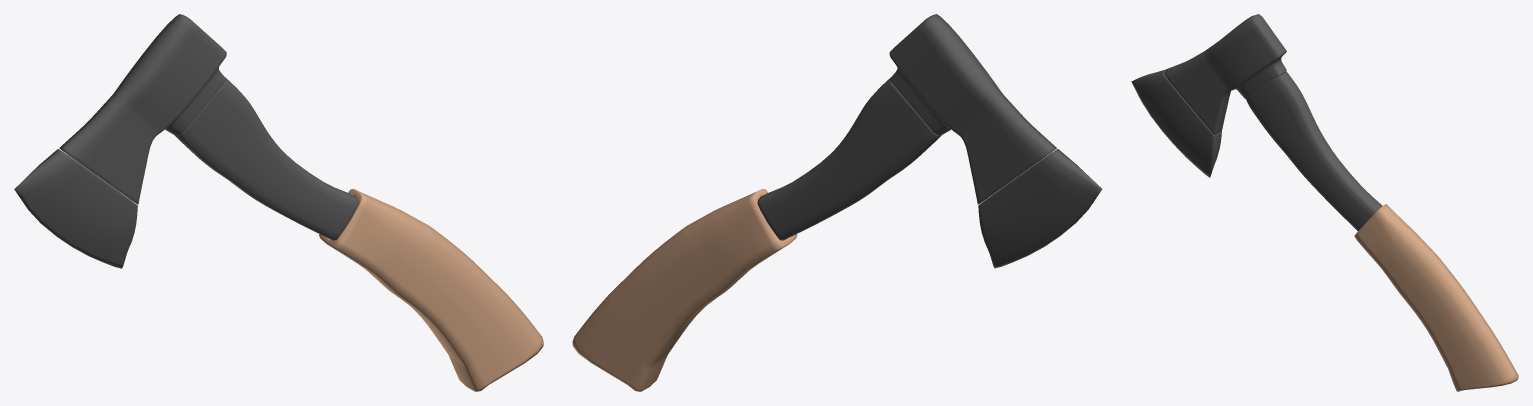
The model's file is hatchet.fbx.
The picture shows the model from 3 angles, left to right: view 1: azimuth 30°, elevation 25°; view 2: azimuth 150°, elevation 25°; view 3: azimuth 330°, elevation 25°; orthographic projection. The views are drawn at different scales.
Visible parts, largest first — view 1: Blade, Handle; view 2: Blade, Handle; view 3: Blade, Handle.
Part boxes in pixels (<box>): Blade: <box>14,14,358,268</box>; Handle: <box>319,189,543,391</box>; Blade: <box>757,14,1102,268</box>; Handle: <box>572,189,797,391</box>; Blade: <box>1131,14,1382,230</box>; Handle: <box>1354,204,1518,391</box>.
Size of the model in its own units: 979 by 780 by 66.54.
